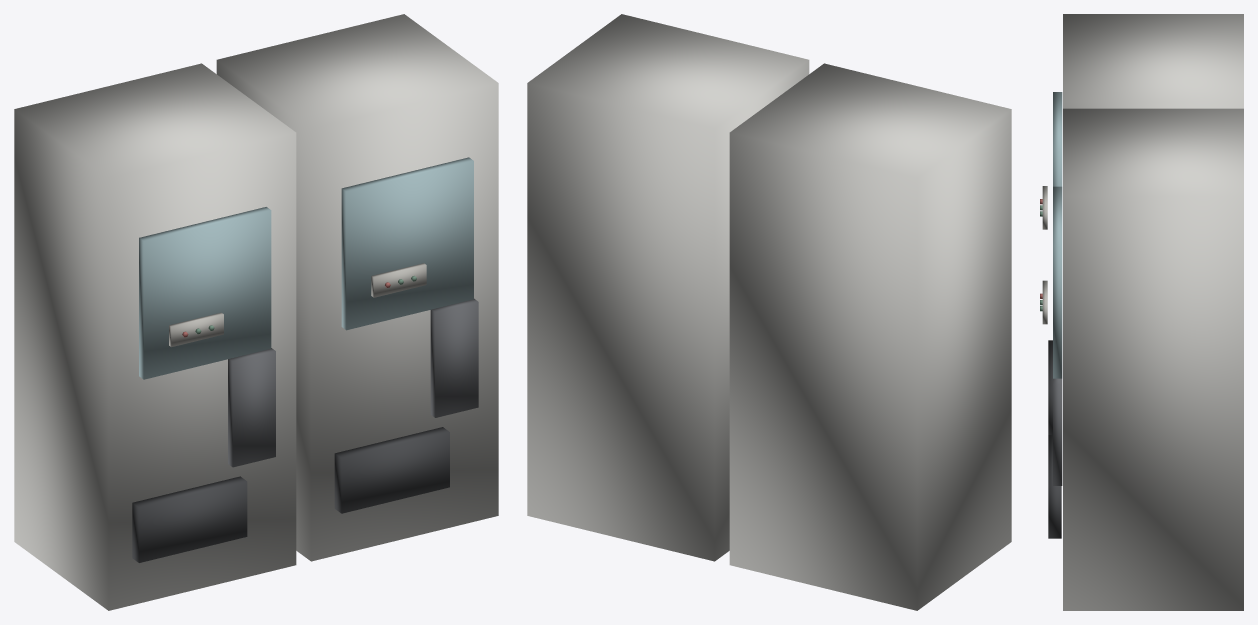
File: snack_vending_machine__cluster.glb
3 renders of one model, left to right at view 1: azimuth 30°, elevation 25°; view 2: azimuth 150°, elevation 25°; view 3: azimuth 270°, elevation 25°, orthographic. The views are drawn at different scales.
Parts seen in each view (by area): view 1: world; view 2: world; view 3: world.
Part boxes in pixels (left/top/right/bottom): world: left=14, top=14, right=498, bottom=610; world: left=527, top=14, right=1011, bottom=610; world: left=1040, top=14, right=1243, bottom=610.
Bounding box in the file's own units: 1.62 × 1.72 × 0.766.
